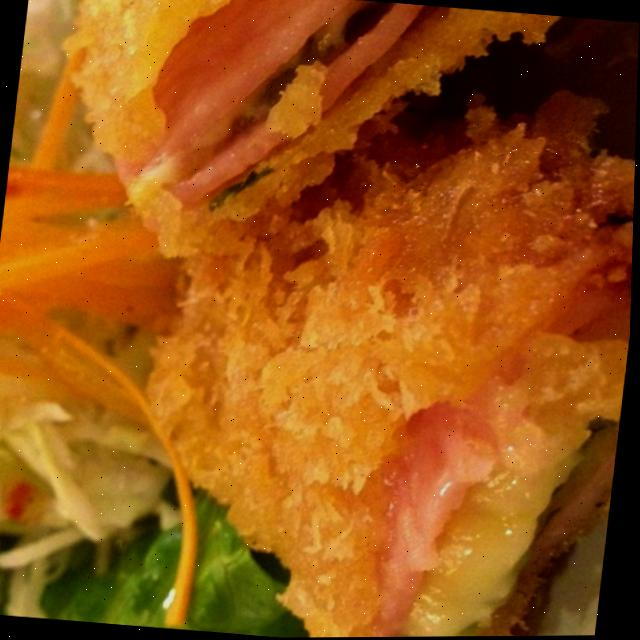炸货点心: (30, 0, 628, 640)
